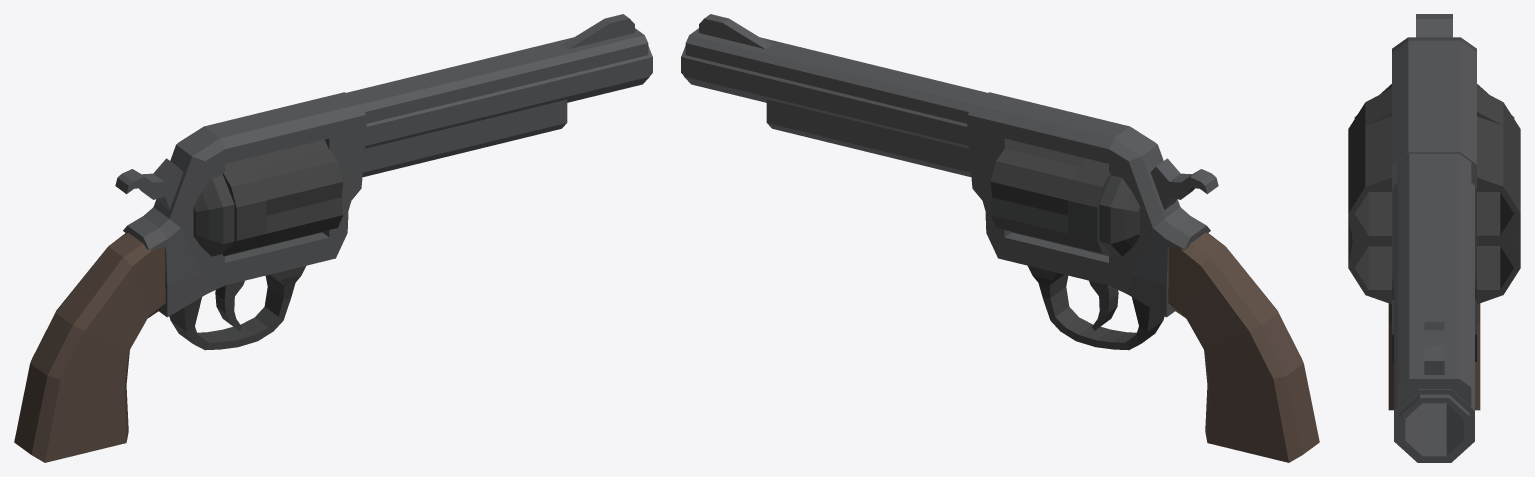
File: quaternius-survival-revolver-1.glb
The picture shows the model from 3 angles, left to right: view 1: azimuth 30°, elevation 25°; view 2: azimuth 150°, elevation 25°; view 3: azimuth 270°, elevation 25°; orthographic projection. The views are drawn at different scales.
Visible parts, largest first — view 1: Revolver_1; view 2: Revolver_1; view 3: Revolver_1.
Boxes of the visible parts, bbox=[...] form: Revolver_1: bbox=[14, 14, 652, 462]; Revolver_1: bbox=[681, 14, 1319, 462]; Revolver_1: bbox=[1348, 14, 1520, 462].
Size of the model in its own units: 1.98 by 0.8899 by 0.2944.
